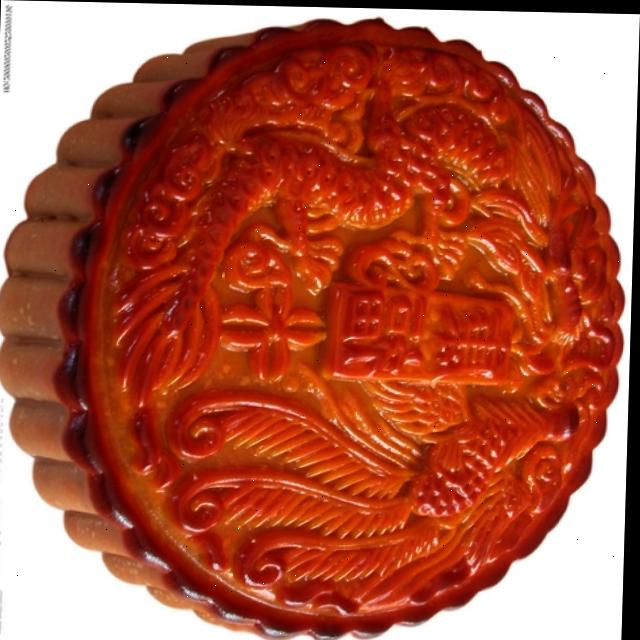蛋糕甜品: (34, 23, 614, 624)
